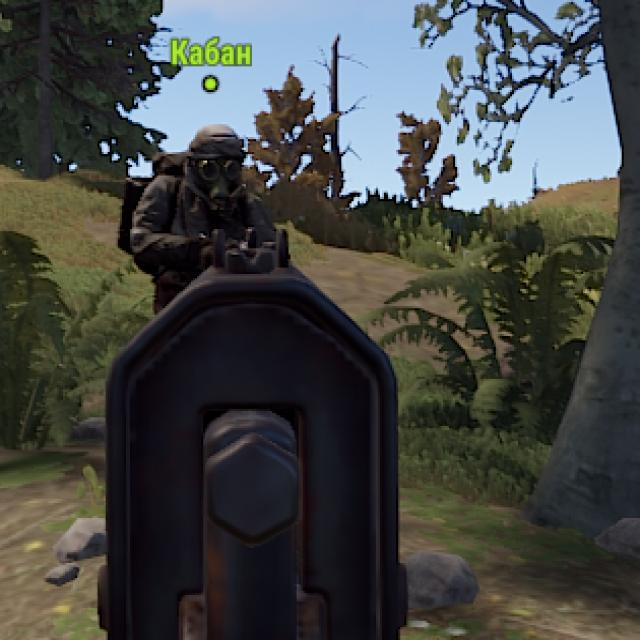Player: (130, 127, 270, 229)
